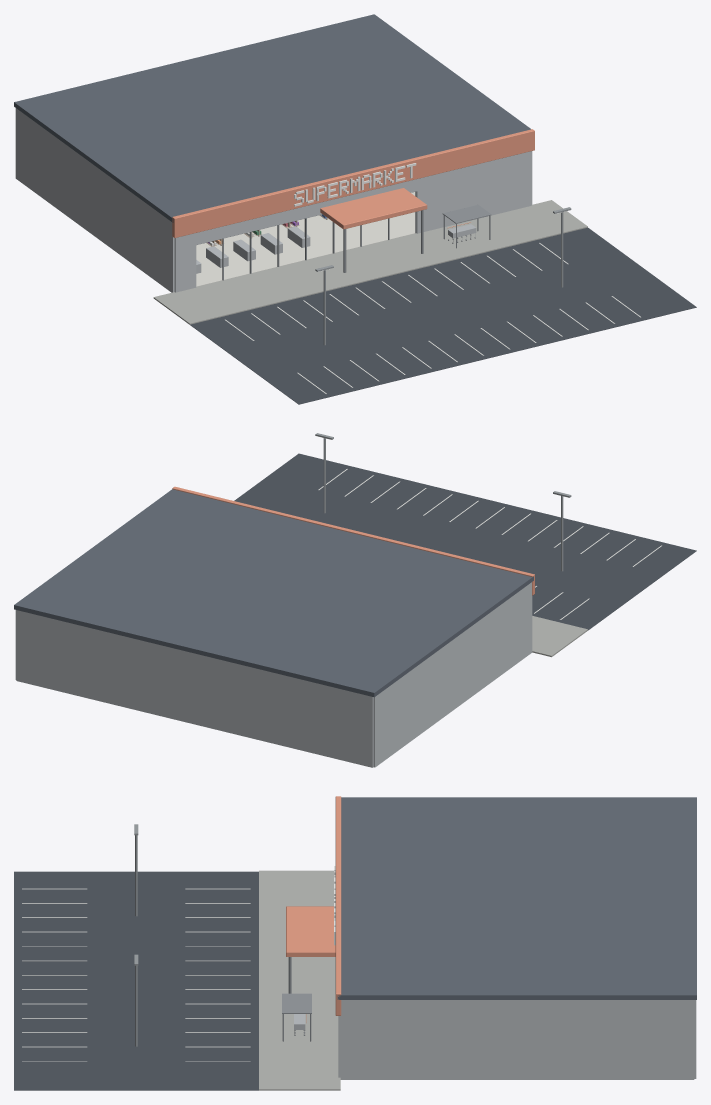
The model's file is supply_shop.glb.
3 views of the same model, one above another, from view 1: azimuth 30°, elevation 25°; view 2: azimuth 150°, elevation 25°; view 3: azimuth 270°, elevation 25° (orthographic). The views are drawn at different scales.
Visible parts, largest first — view 1: shop; view 2: shop; view 3: shop.
Part boxes in pixels (x1,y1,x2,y2): shop: (14, 14, 696, 404); shop: (14, 433, 696, 767); shop: (14, 796, 696, 1090).
Size of the model in its own units: 38 by 7.07 by 50.2.
